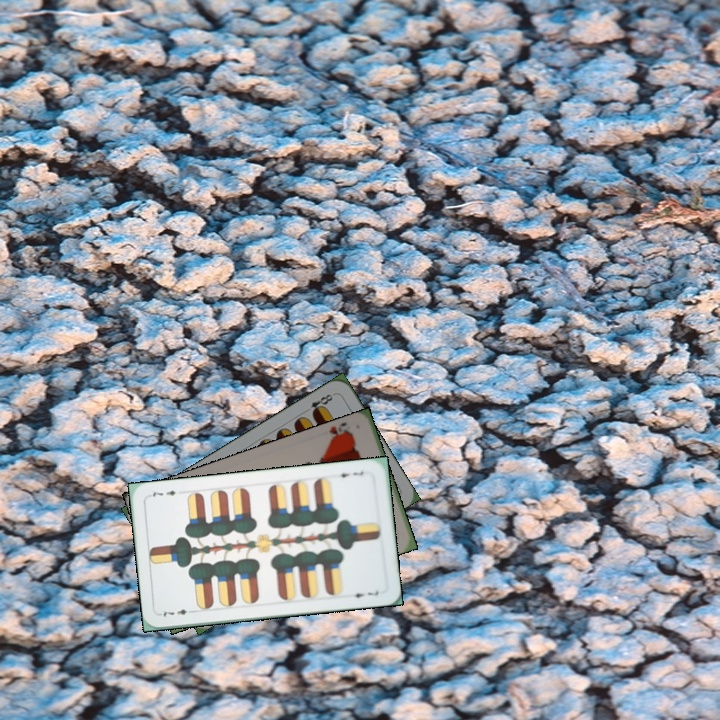E7: (157, 605, 197, 619), (332, 467, 366, 480)
E8: (307, 389, 337, 418)
HO: (325, 419, 355, 446)
